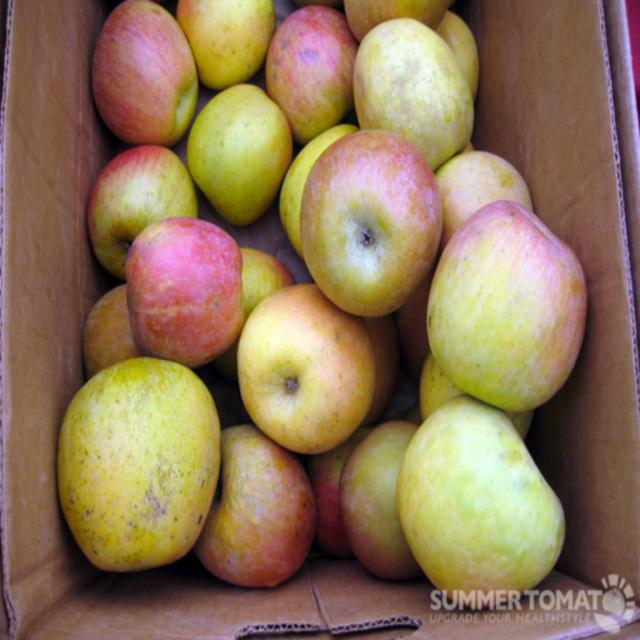Healty Apple: (57, 0, 593, 613), (287, 123, 442, 320)
